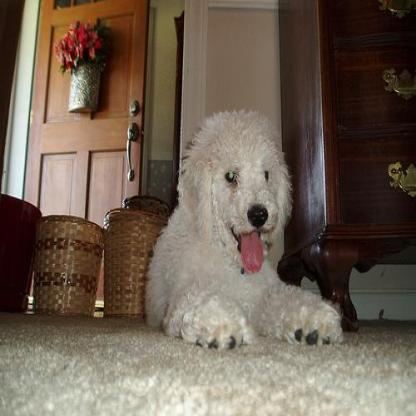standard_poodle: (142, 107, 341, 352)
